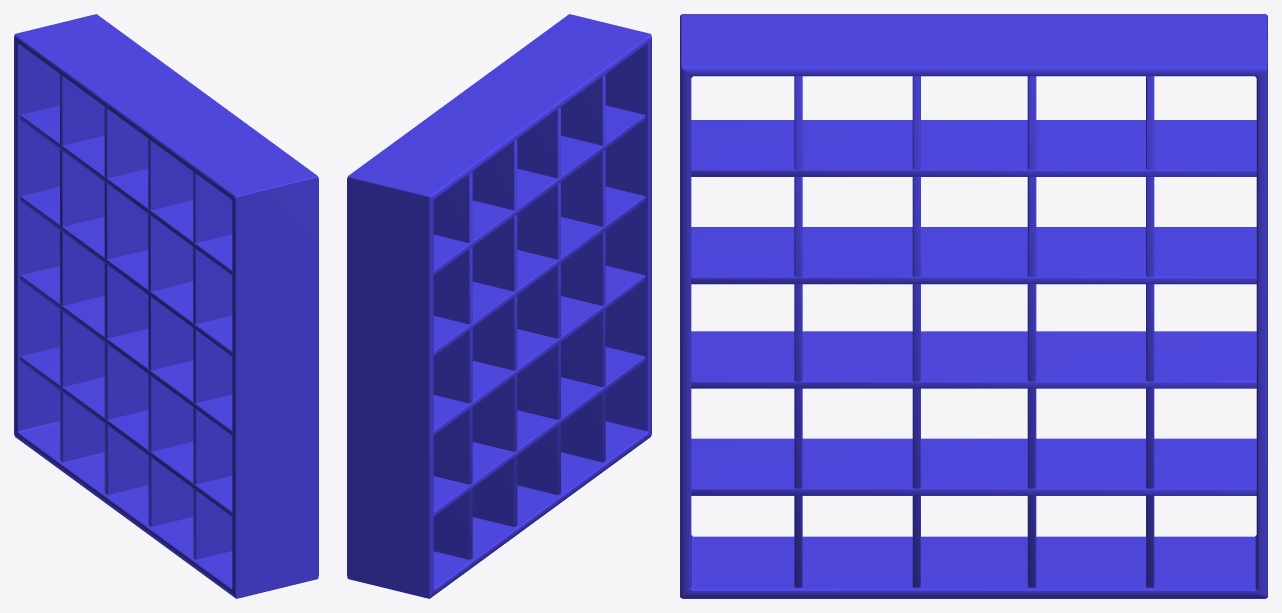
File: Shelves_5x5.fbx
The picture shows the model from 3 angles, left to right: view 1: azimuth 30°, elevation 25°; view 2: azimuth 150°, elevation 25°; view 3: azimuth 270°, elevation 25°; orthographic projection. The views are drawn at different scales.
Visible parts, largest first — view 1: Shelves_5x5; view 2: Shelves_5x5; view 3: Shelves_5x5.
Part boxes in pixels (bbox=[...]): Shelves_5x5: bbox=[14, 14, 318, 598]; Shelves_5x5: bbox=[347, 14, 651, 598]; Shelves_5x5: bbox=[680, 14, 1267, 598].
Size of the model in its own units: 50 by 231 by 230.
